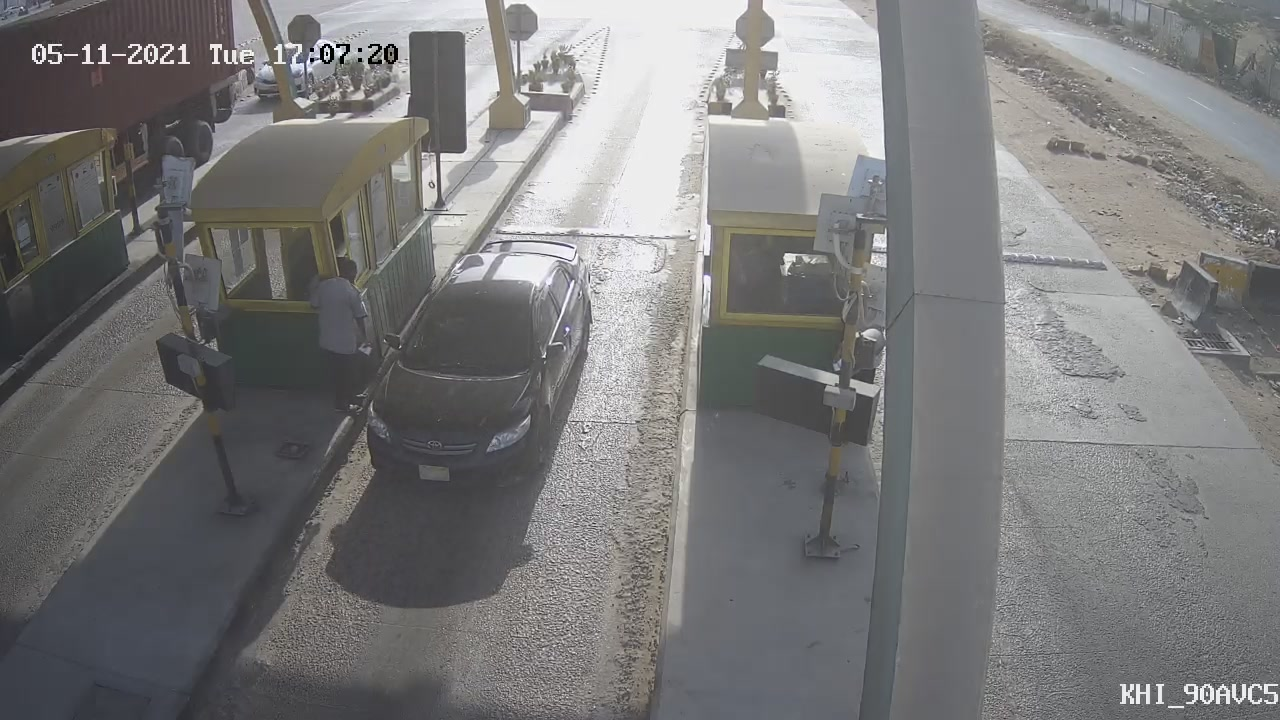F1: (339, 213, 616, 511)
